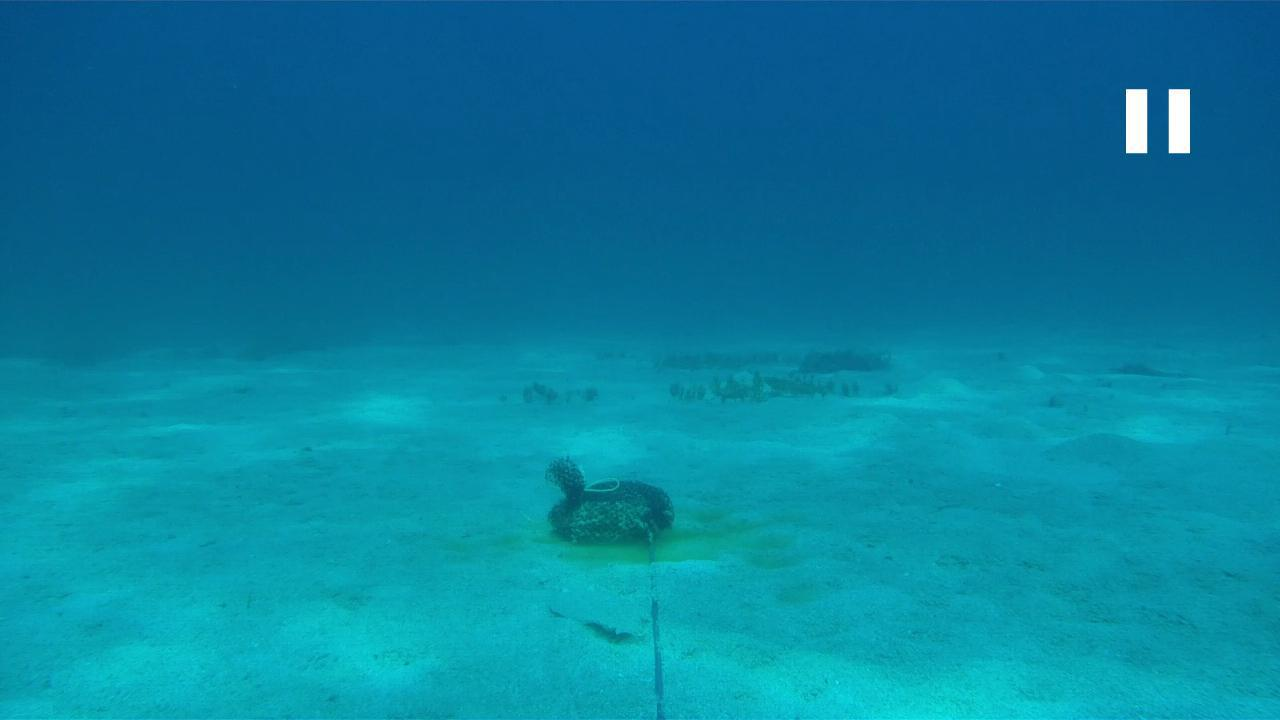bothus: (541, 585, 653, 642)
